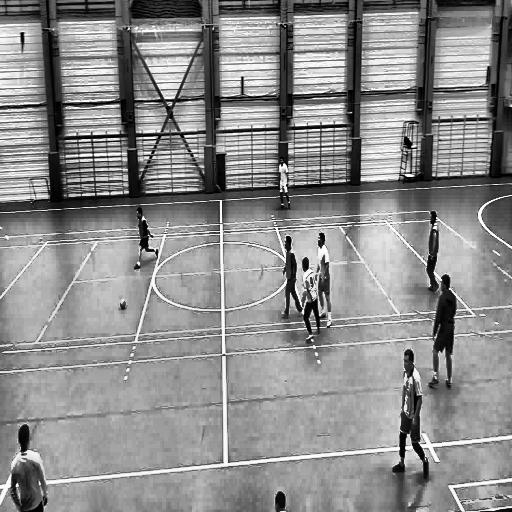ball: (118, 296, 128, 311)
player: (389, 346, 430, 483), (428, 274, 457, 392), (9, 422, 47, 512), (281, 234, 303, 320), (300, 256, 320, 342), (315, 231, 332, 329), (133, 206, 158, 270), (425, 208, 441, 294), (277, 155, 293, 211)
